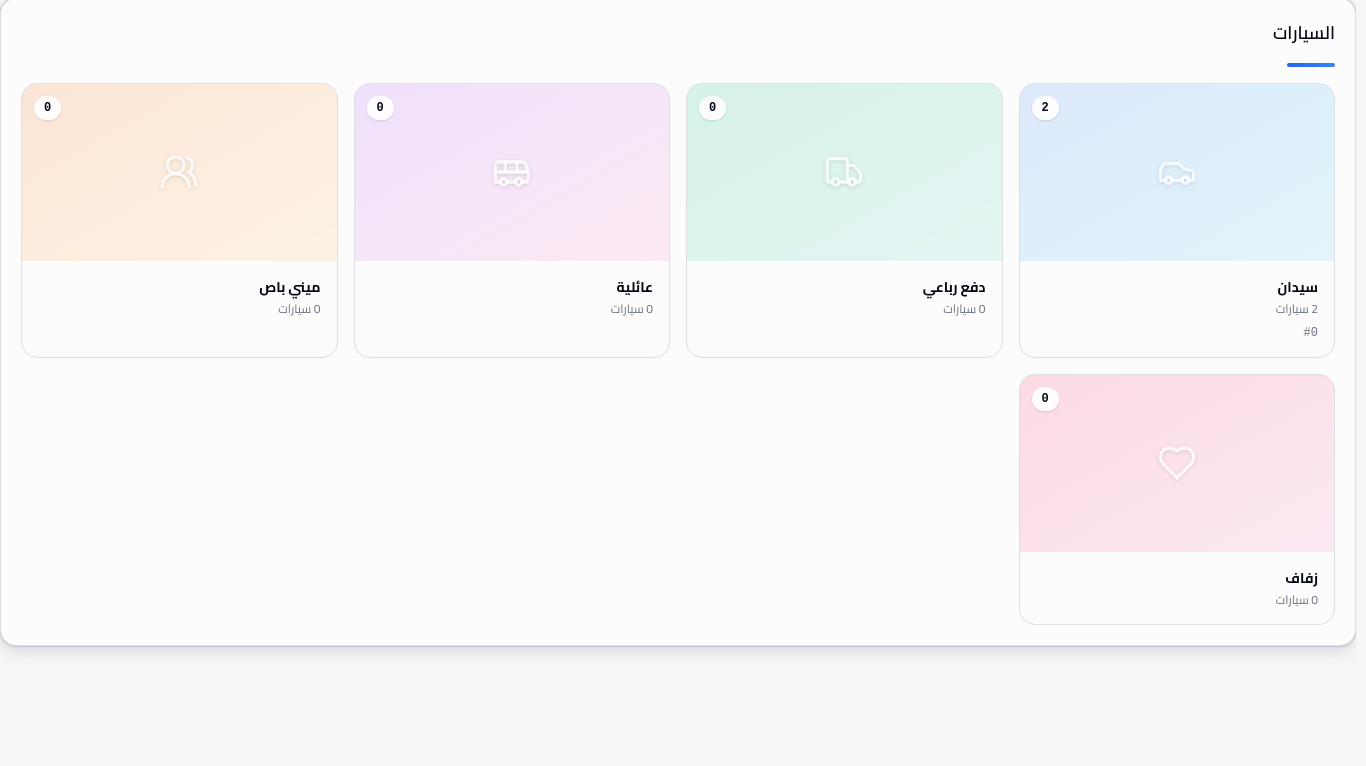
CarImageRows edge cases — S3 expansion › car with 0 images → exactly ONE placeholder row, no <img>, shows لا صورة
Click the button with test id "category-card-sedan".
click(1177, 220)  # box [1018, 83, 1335, 358]
(page scrolled)
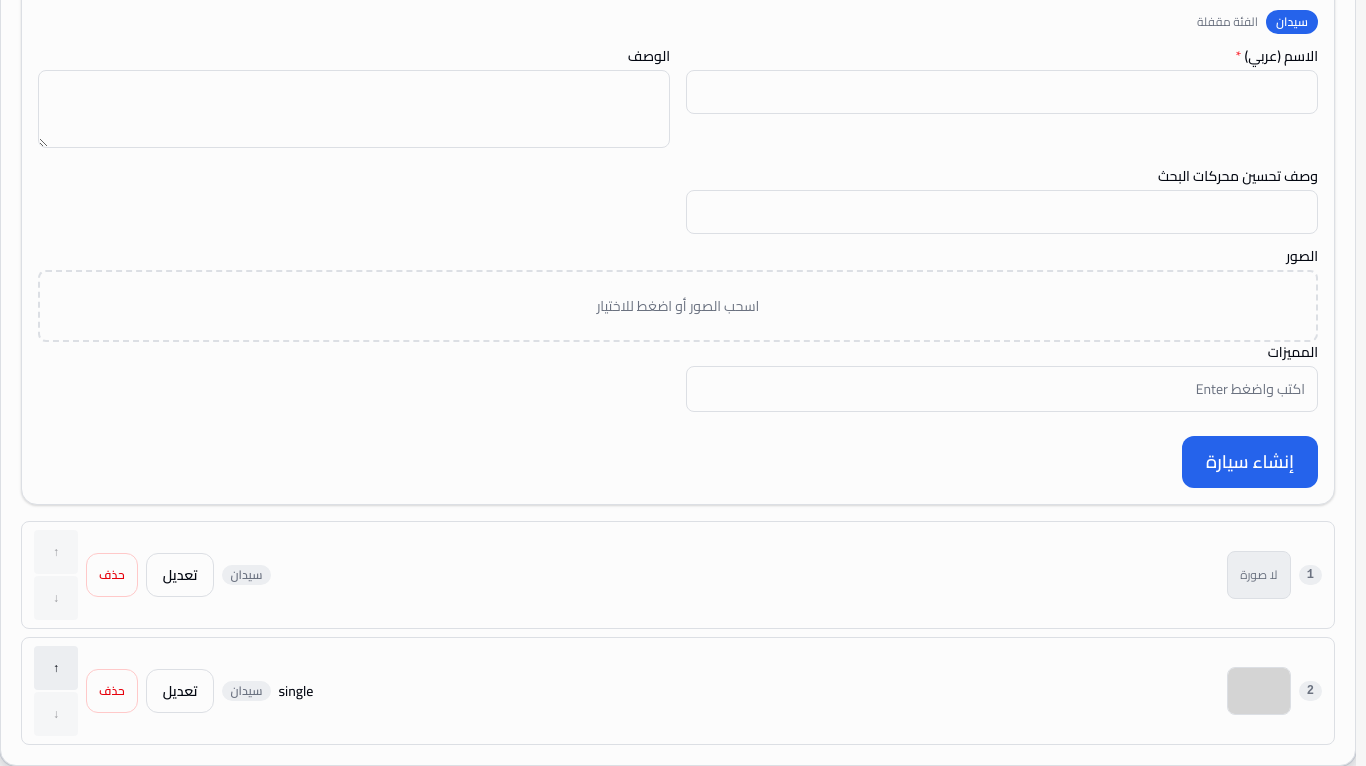
Expected: the list item with test id "car-imagerow-car-zero-images-0" is shown, [21, 521, 1335, 629]
Expected: the list item with test id "car-imagerow-car-zero-images-0" shows "لا صورة", [1240, 563, 1277, 586]
